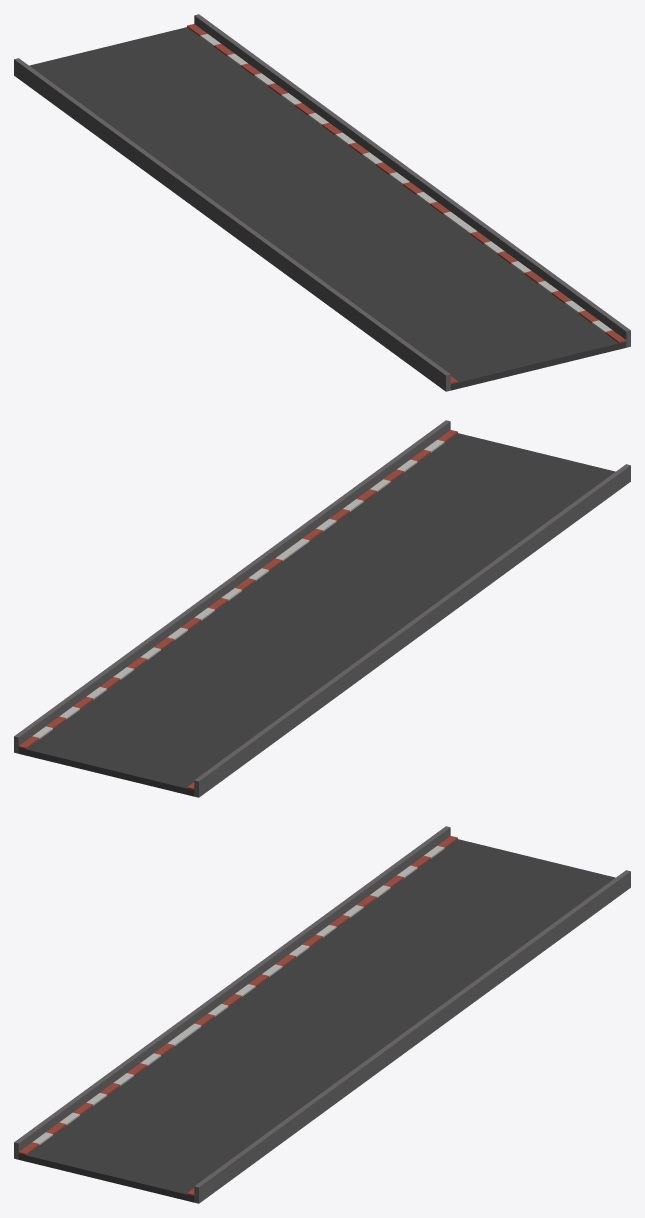
File: tp-straight.glb
The picture shows the model from 3 angles, top to bottom: view 1: azimuth 30°, elevation 25°; view 2: azimuth 150°, elevation 25°; view 3: azimuth 330°, elevation 25°; orthographic projection.
Parts seen in each view (by area): view 1: tp-straight; view 2: tp-straight; view 3: tp-straight.
Part boxes in pixels (x1,y1,x2,y2): tp-straight: (14,14,630,391); tp-straight: (14,420,630,797); tp-straight: (14,826,630,1203).
Size of what is drawn, in the model's own units: 15.43 by 1.3 by 62.42.
1 material, 1 textured.
